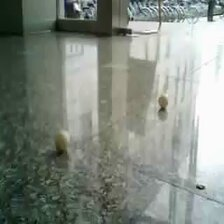w: (54, 131, 71, 150), (158, 94, 169, 107)
